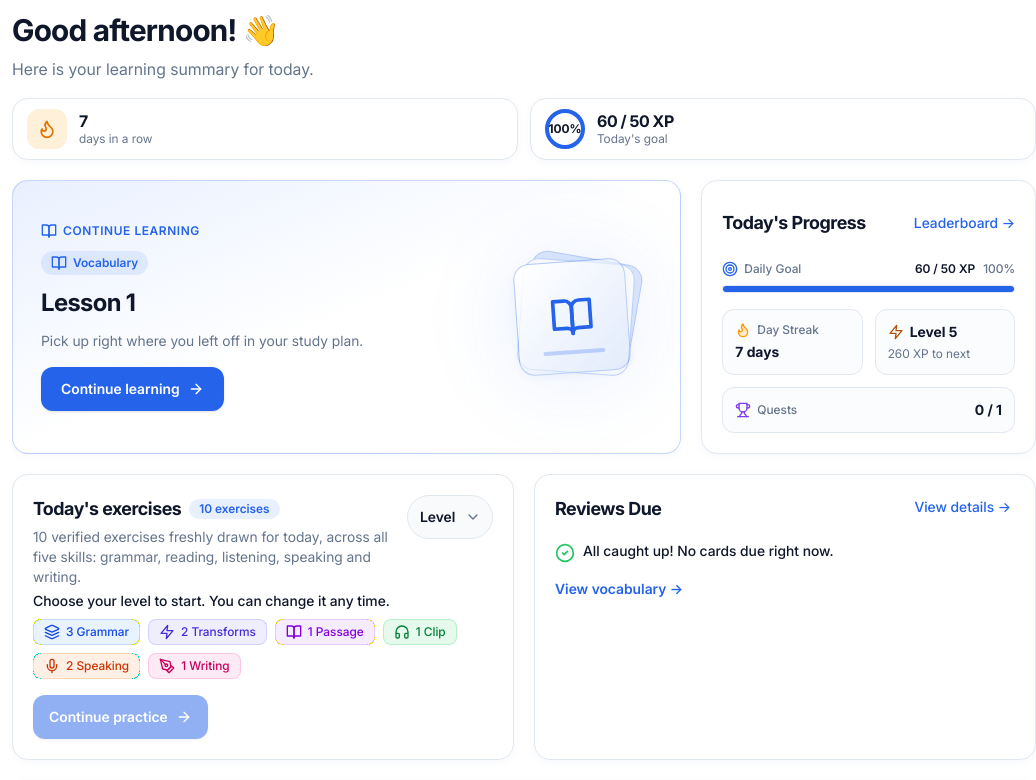
Scenario: DashboardPage (P10.1) › renders Phase 3 gamification widgets with real numbers
Check: the heading "Lesson 1" is shown, box [41,288,135,316]
Check: the text "60 / 50 XP" next to "Daily Goal" is shown, box [915,260,975,276]
What coordinates should you click on to do the following:
click the link "Leaderboard →"
I would click on:
 (964, 222)
Its box is [914,214,1015,230].
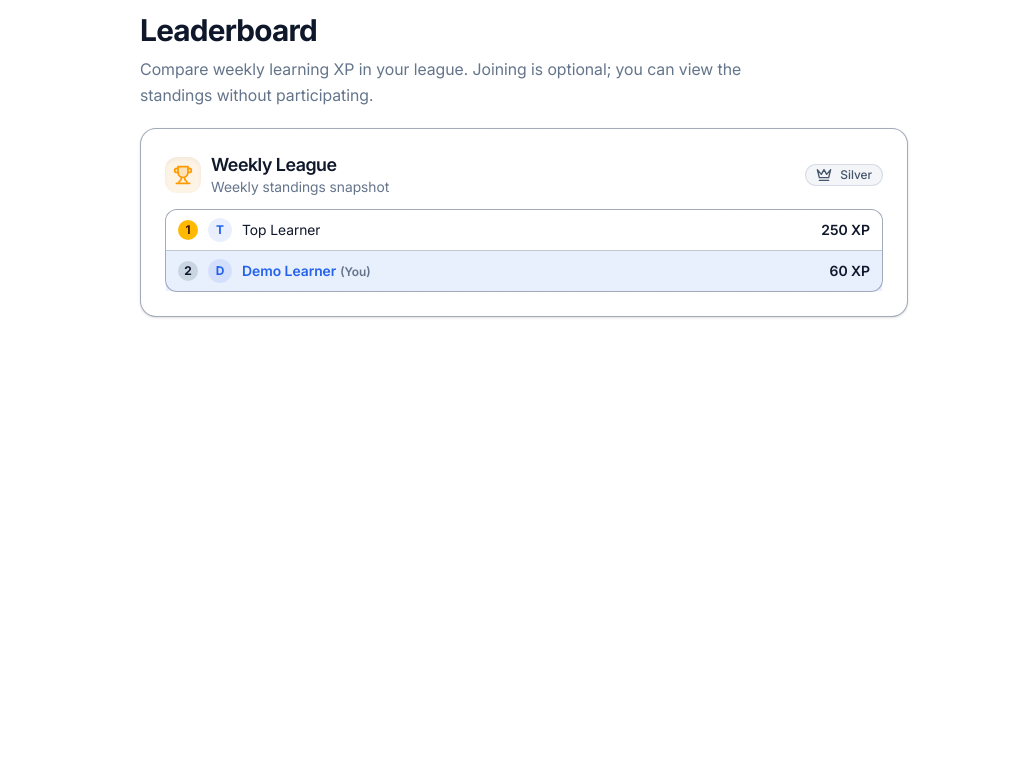
Check: the heading "Leaderboard" is shown, box [140,12,317,48]
Check: the text "Top Learner" is shown, box [242,220,320,240]
Check: the text "Demo Learner" is shown, box [242,262,336,279]
